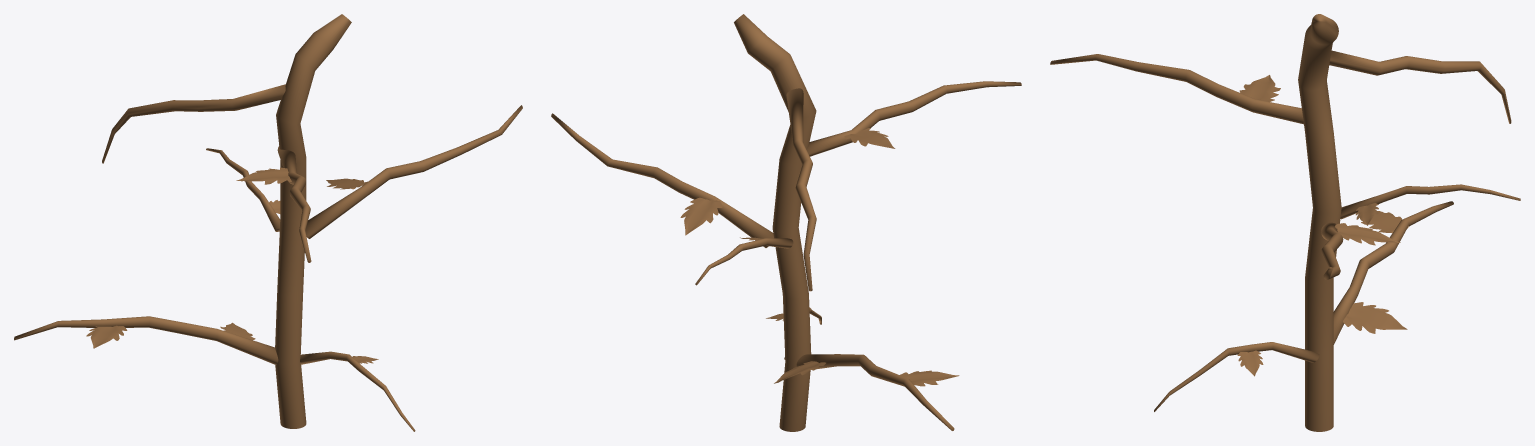
The model's file is DeadTomatoPlant.fbx.
3 views of the same model, side by side, from view 1: azimuth 30°, elevation 25°; view 2: azimuth 150°, elevation 25°; view 3: azimuth 270°, elevation 25° (orthographic). The views are drawn at different scales.
Visible parts, largest first — view 1: Cylinder, Cylinder.020, Cylinder.001, Cylinder.014, Cylinder.009, Cylinder.031, Cylinder.026, Cylinder.013, Cylinder.023; view 2: Cylinder, Cylinder.001, Cylinder.009, Cylinder.014, Cylinder.020, Cylinder.007, Cylinder.026, Cylinder.013, Cylinder.023; view 3: Cylinder, Cylinder.009, Cylinder.014, Cylinder.020, Cylinder.026, Cylinder.031, Cylinder.022, Cylinder.001, Cylinder.007, Cylinder.013, Cylinder.023.
Part boxes in pixels (x1,y1,x2,y2): Cylinder: [275, 14, 351, 428]; Cylinder.020: [14, 316, 278, 364]; Cylinder.001: [305, 105, 522, 238]; Cylinder.014: [102, 84, 285, 163]; Cylinder.009: [277, 146, 311, 262]; Cylinder.031: [300, 351, 415, 431]; Cylinder.026: [206, 148, 280, 231]; Cylinder.013: [236, 167, 291, 184]; Cylinder.023: [86, 325, 127, 348]; Cylinder: [734, 14, 816, 431]; Cylinder.001: [551, 113, 773, 247]; Cylinder.009: [806, 81, 1021, 156]; Cylinder.014: [786, 88, 816, 291]; Cylinder.020: [796, 354, 954, 430]; Cylinder.007: [680, 197, 722, 235]; Cylinder.026: [695, 238, 793, 285]; Cylinder.013: [844, 128, 895, 148]; Cylinder.023: [900, 370, 959, 386]; Cylinder: [1298, 14, 1341, 431]; Cylinder.009: [1050, 54, 1303, 124]; Cylinder.014: [1329, 50, 1511, 123]; Cylinder.020: [1333, 201, 1453, 344]; Cylinder.026: [1340, 184, 1520, 219]; Cylinder.031: [1154, 342, 1319, 411]; Cylinder.022: [1343, 302, 1407, 333]; Cylinder.001: [1321, 222, 1343, 279]; Cylinder.007: [1335, 223, 1400, 245]; Cylinder.013: [1239, 75, 1280, 101]; Cylinder.023: [1361, 211, 1408, 233].
Bounding box in the file's own units: 897 × 749 × 728.
